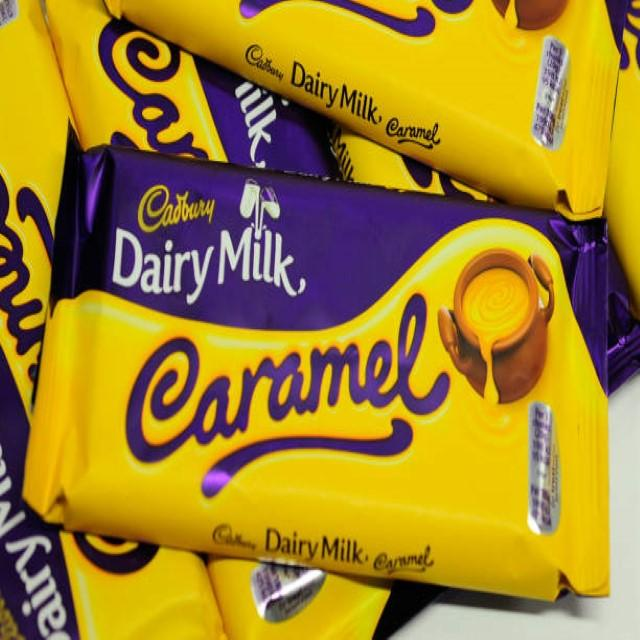cadbury_chocolate: (75, 173, 598, 570)
